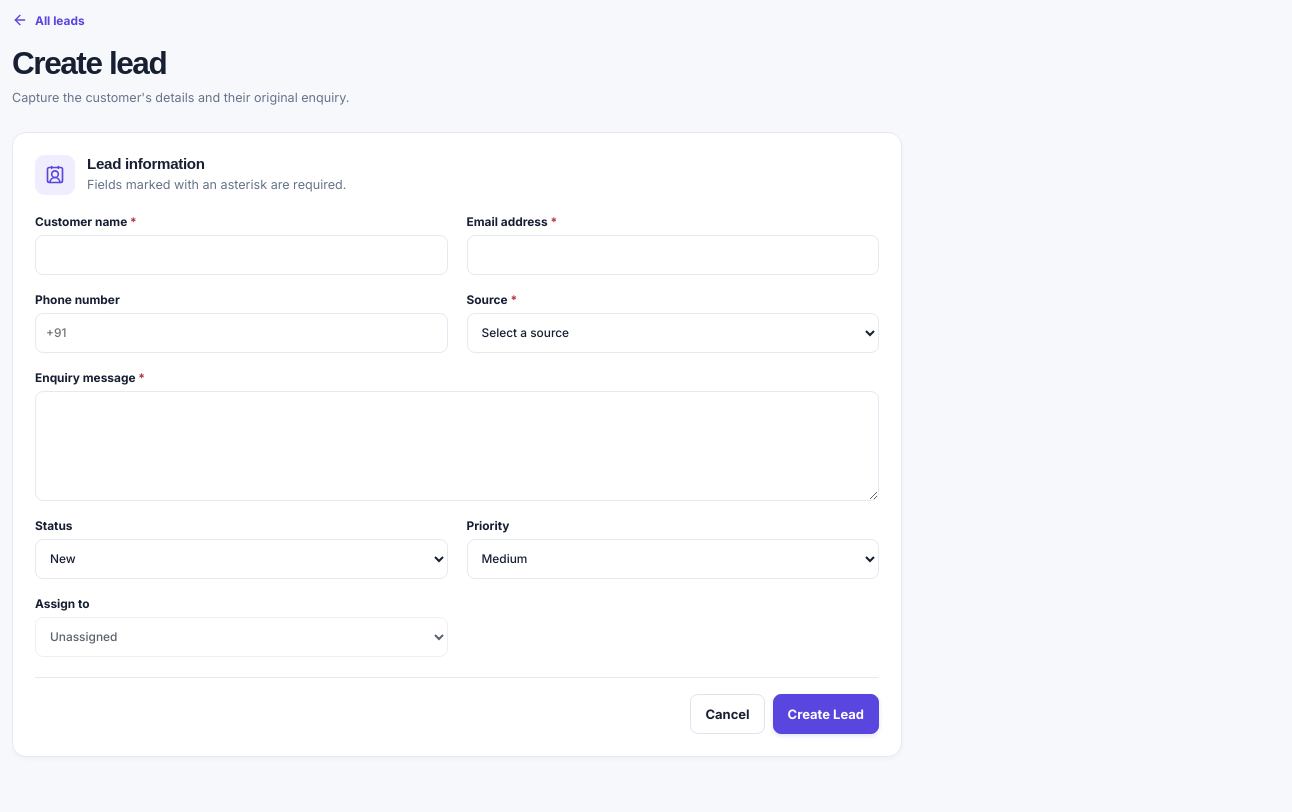
Test: lead workflow › creates a lead with the submitted values and opens the returned lead record
Type "Ishita Demo" into the field labelled "Customer name". click: (241, 255)
box: [35, 235, 448, 275]
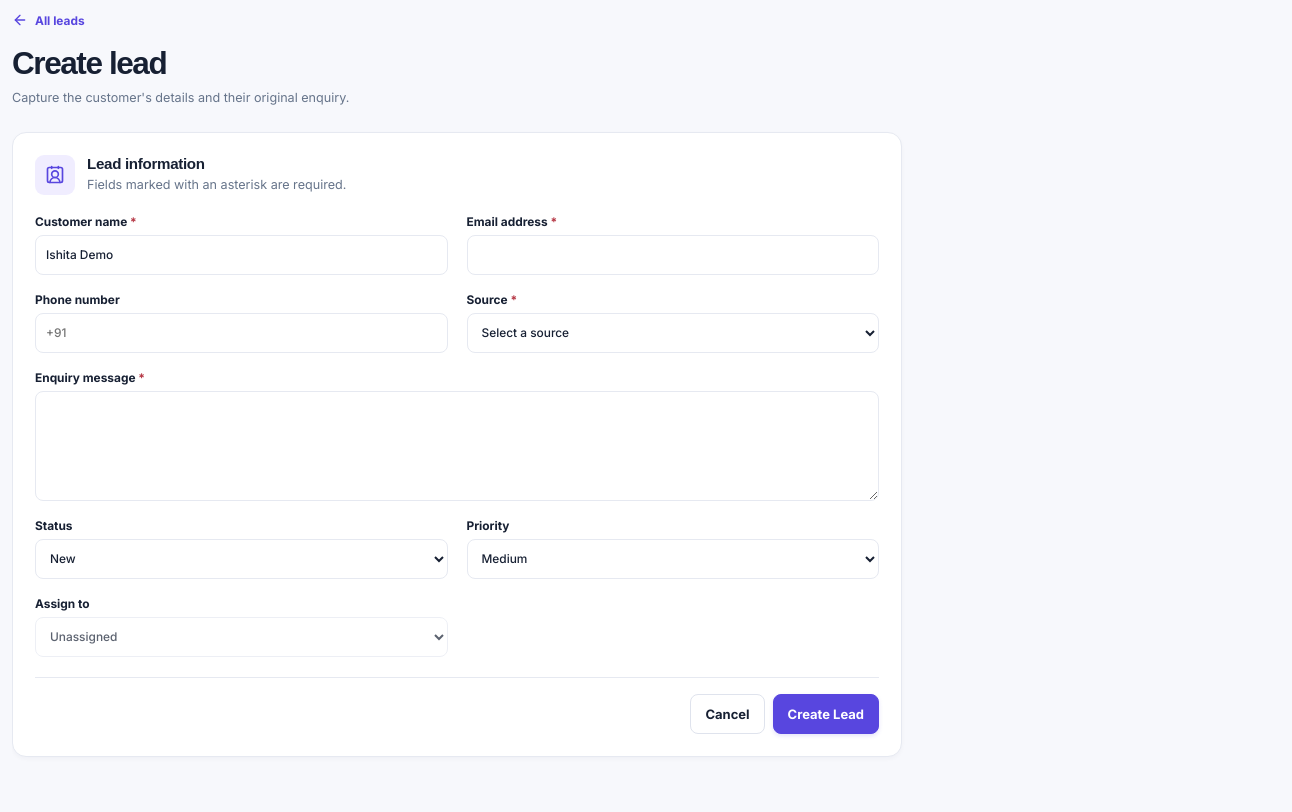
Type "ishita@example.test" into the field labelled "Email address". click: (673, 255)
box: [466, 235, 879, 275]
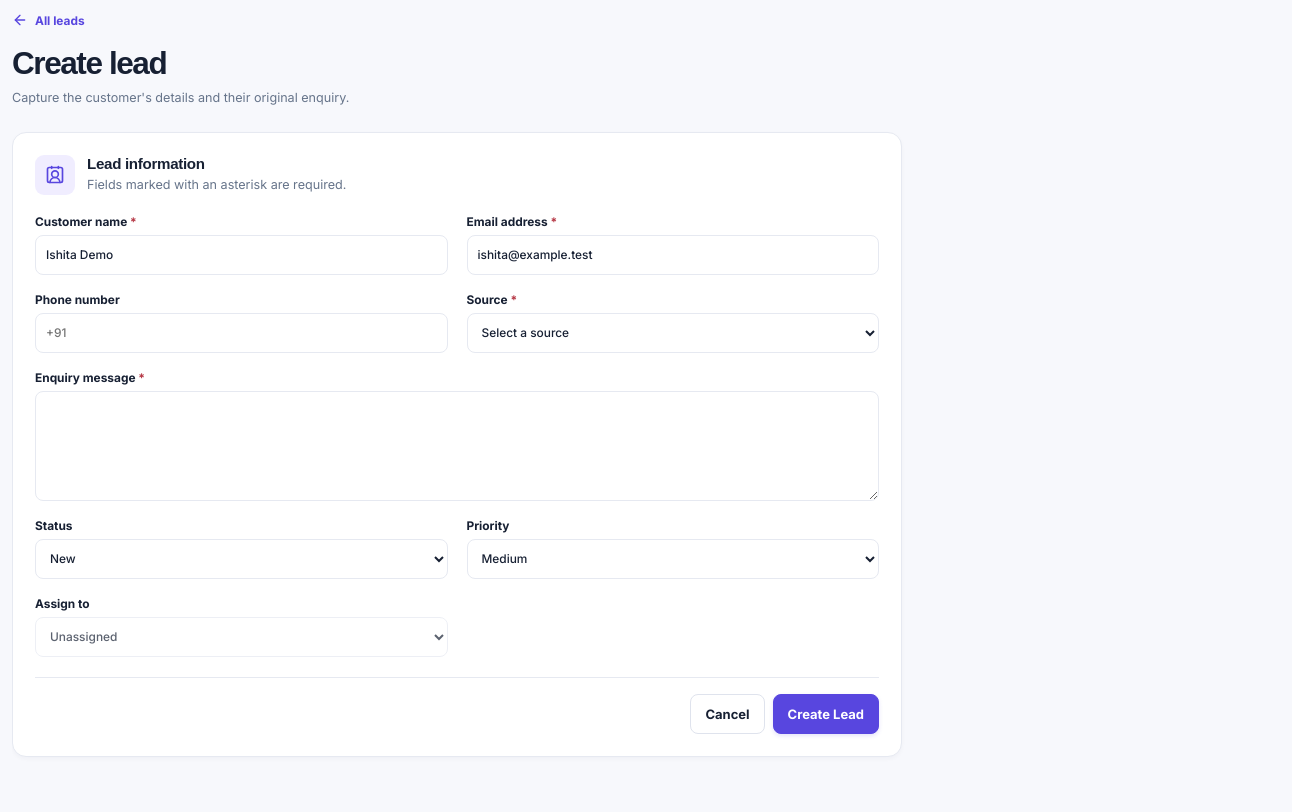
Select "Manual" in the dropdown labelled "Source". click: (673, 333)
box: [466, 313, 879, 353]
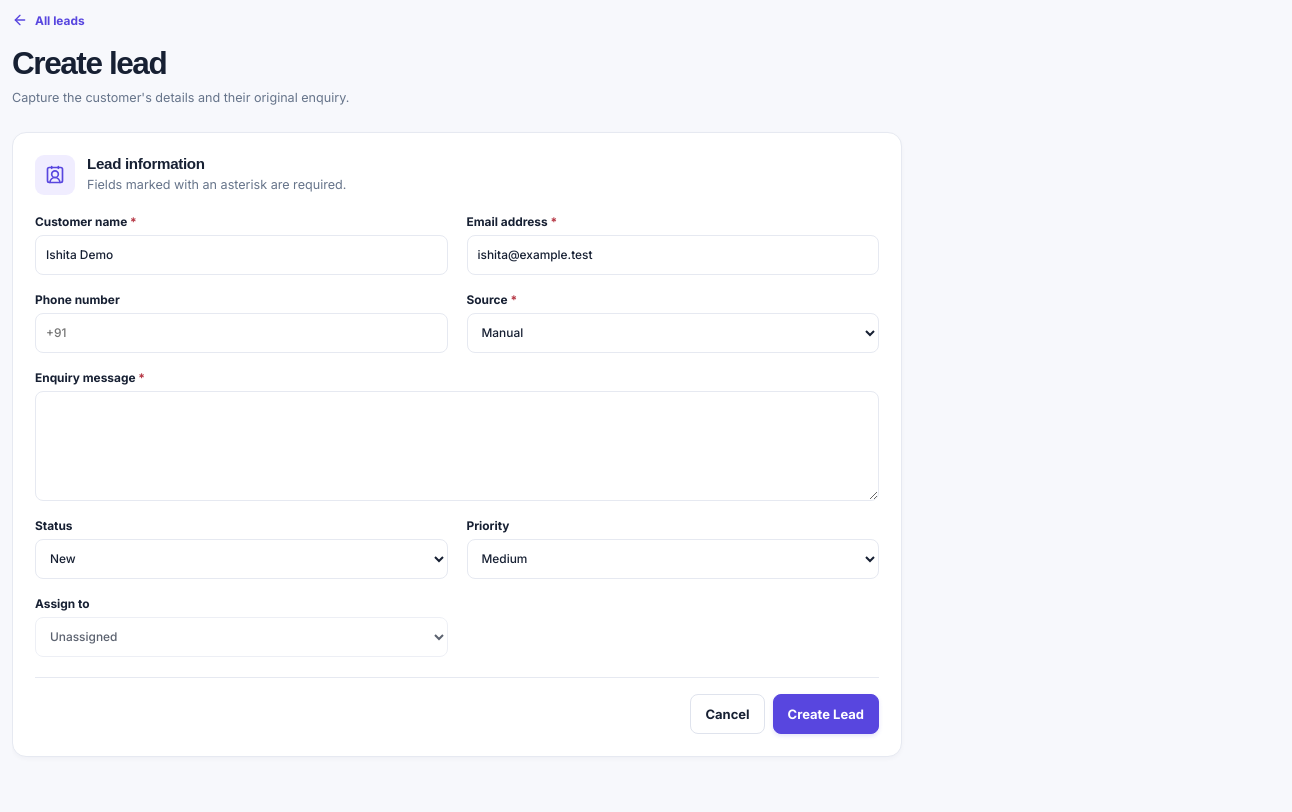
Type "I would like a 3BHK in Greater Noida with a site visit next week." into the text box labelled "Enquiry message". click: (457, 446)
box: [35, 391, 879, 501]
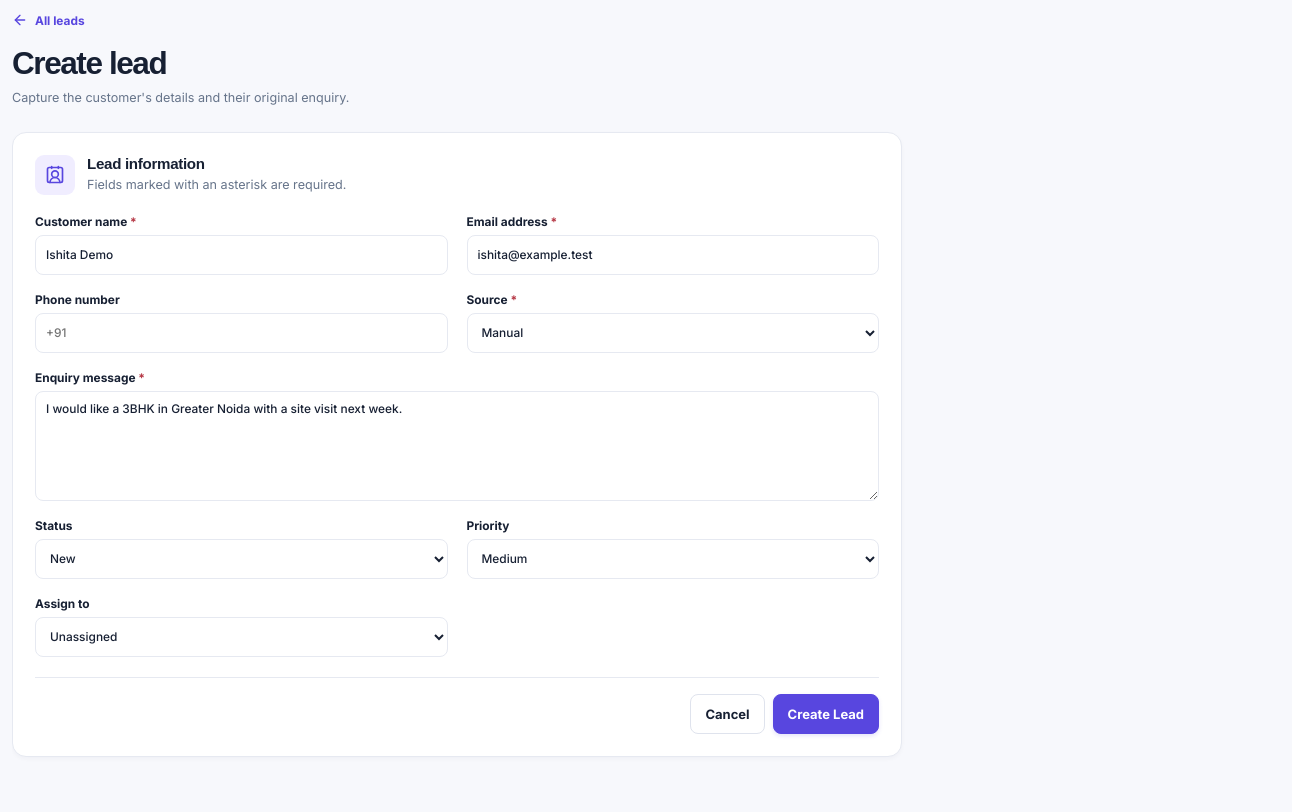
Click the button "Create Lead". click: (826, 714)
box: [773, 694, 879, 734]
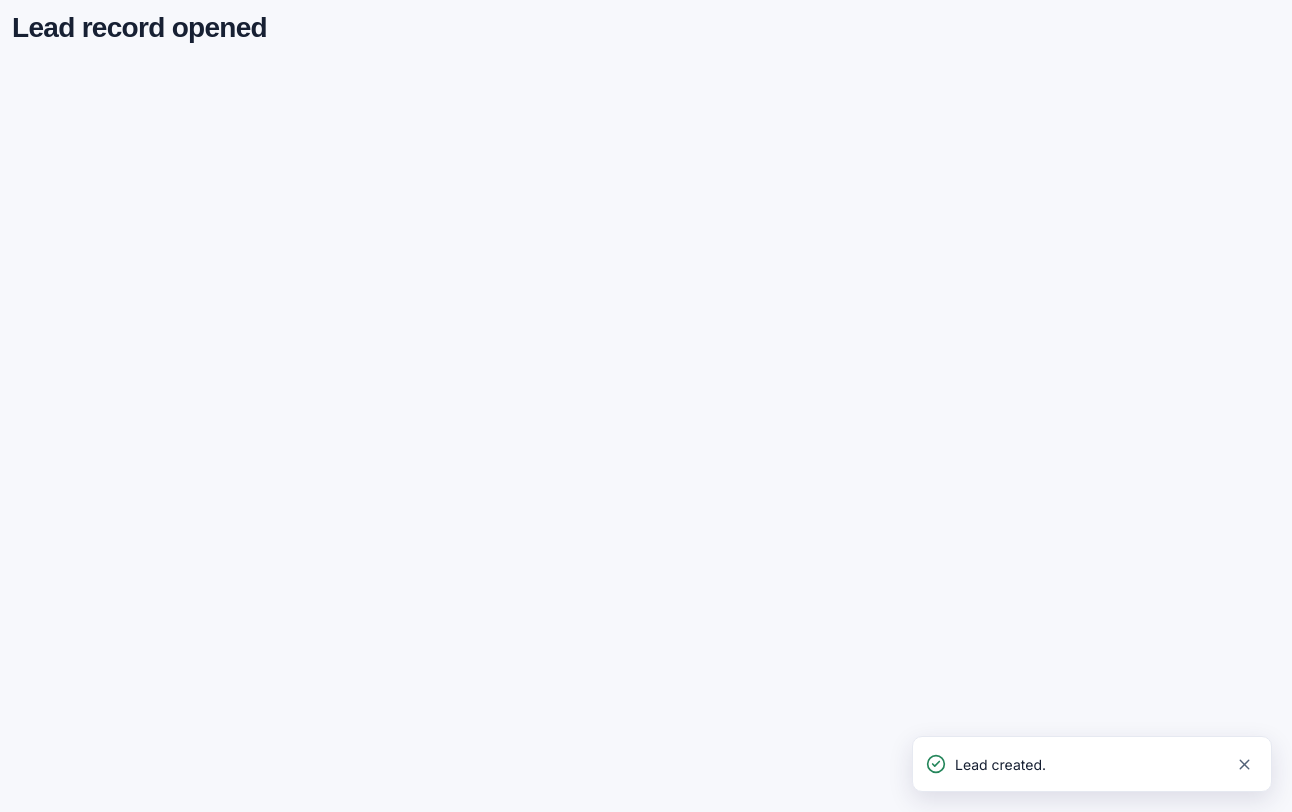
Check: the heading "Lead record opened" is shown, box [12, 12, 267, 43]
Check: the text "Lead created." is shown, box [955, 756, 1046, 772]
